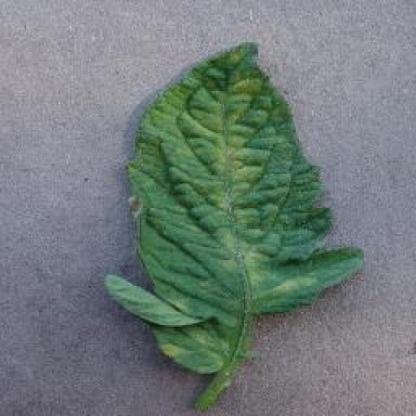Tomato_Leaf_Mold: (110, 43, 362, 368)
